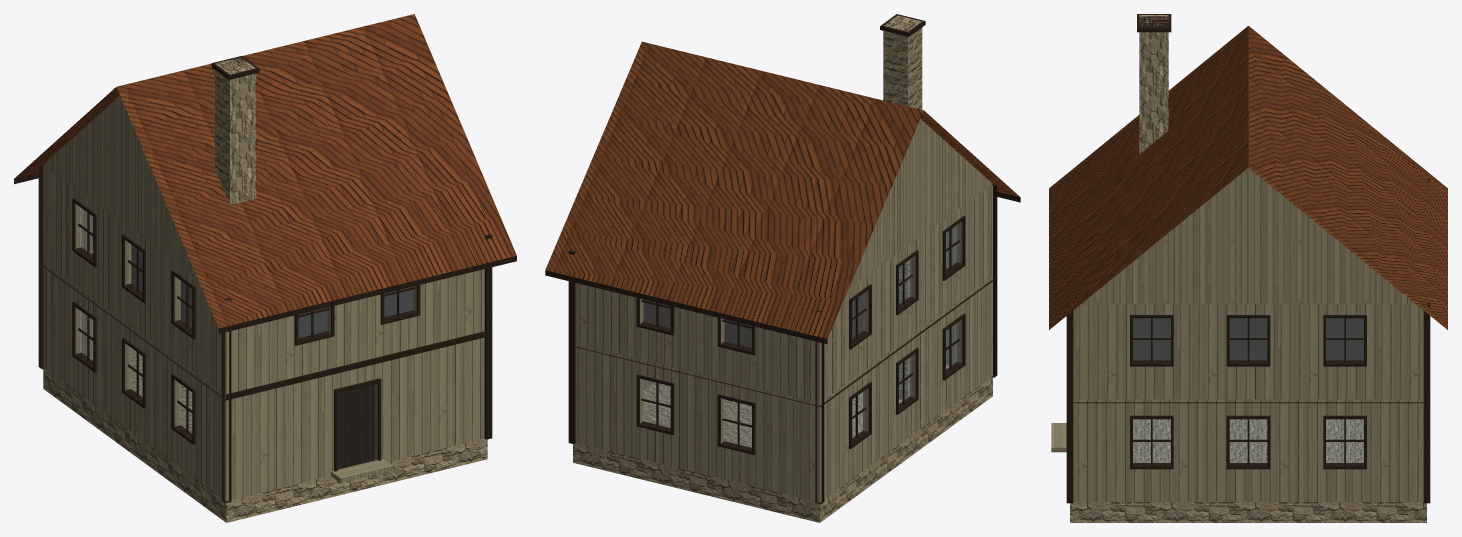
The model's file is eu_house_01.glb.
3 renders of one model, left to right at view 1: azimuth 30°, elevation 25°; view 2: azimuth 150°, elevation 25°; view 3: azimuth 270°, elevation 25°, orthographic. The views are drawn at different scales.
Visible parts, largest first — view 1: eu_house_01; view 2: eu_house_01; view 3: eu_house_01.
Part boxes in pixels (<box>): eu_house_01: <box>14,14,516,522</box>; eu_house_01: <box>545,14,1020,522</box>; eu_house_01: <box>1049,14,1447,522</box>.
Bounding box in the file's own units: 8 × 10.58 × 9.5.
6 materials, 5 textured.
